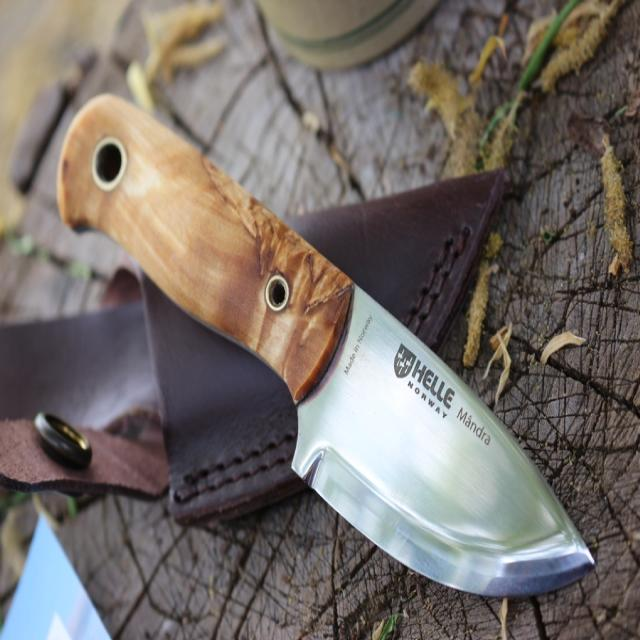knife: (53, 90, 596, 598)
